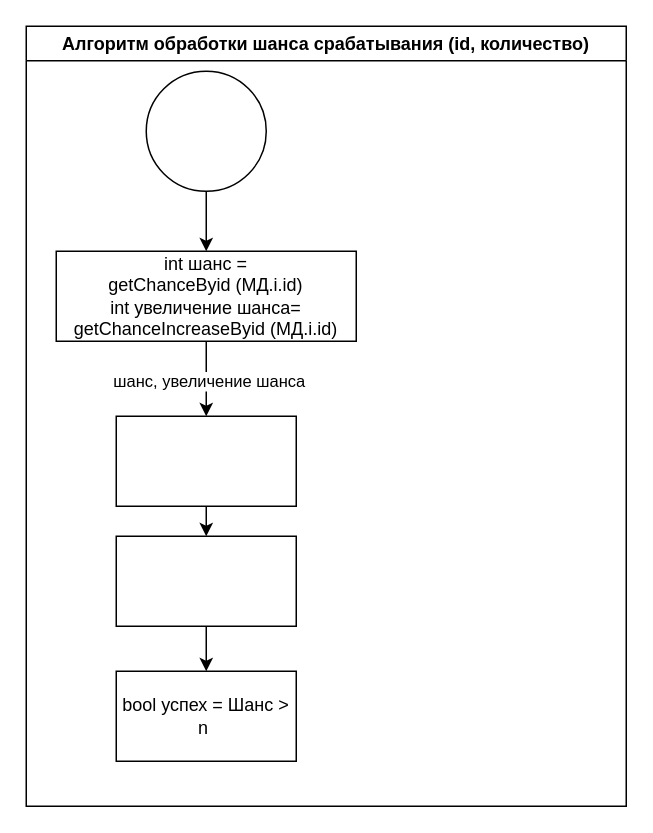
The diagram is 653 pixels wide and 833 high, and some of its shapes have lost their labels. The centre of each missing label's shape, as x and y in pixels:
"Сгенерировать целое число n в переделах 0 - 100" goes at (205,580).
"Шанс += увеличение шанса * МД.i.Кол-во" goes at (205,460).
